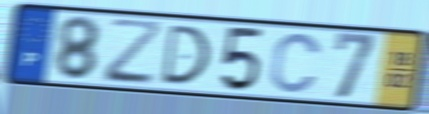5: (217, 25, 269, 95)
7: (332, 30, 378, 103)
8: (51, 13, 103, 83)
C: (267, 31, 324, 96)
D: (158, 23, 213, 86)
Z: (103, 17, 165, 87)
